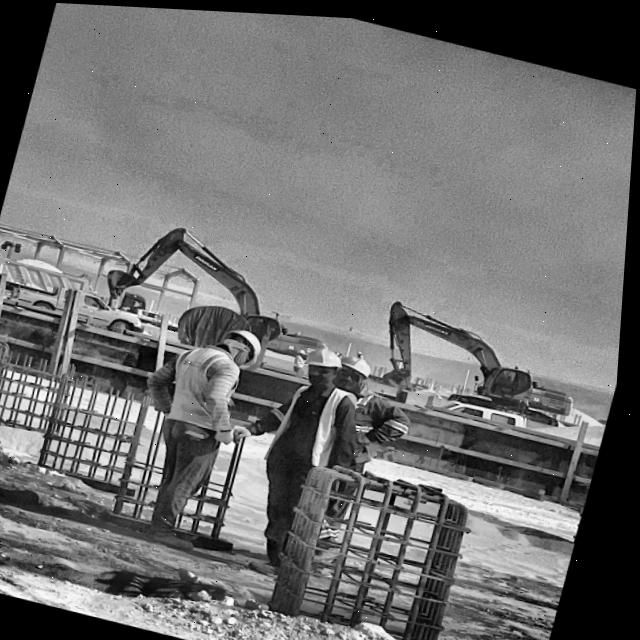excavator: (92, 205, 374, 391), (358, 277, 595, 439)
